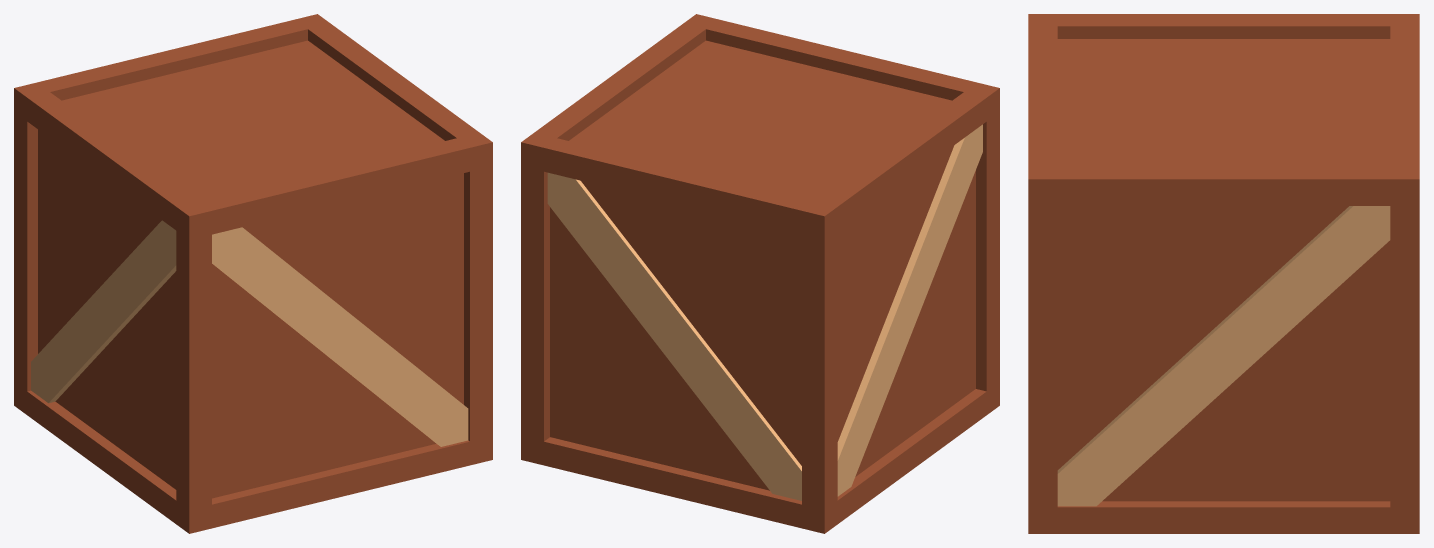
File: Crate.glb
3 views of the same model, side by side, from view 1: azimuth 30°, elevation 25°; view 2: azimuth 150°, elevation 25°; view 3: azimuth 270°, elevation 25° (orthographic). The views are drawn at different scales.
Parts seen in each view (by area): view 1: Cube.004; view 2: Cube.004; view 3: Cube.004.
Part boxes in pixels (x1,y1,x2,y2): Cube.004: (14, 14, 492, 533); Cube.004: (521, 14, 999, 533); Cube.004: (1028, 14, 1419, 533).
Bounding box in the file's own units: 2.8 × 2.8 × 2.8.
